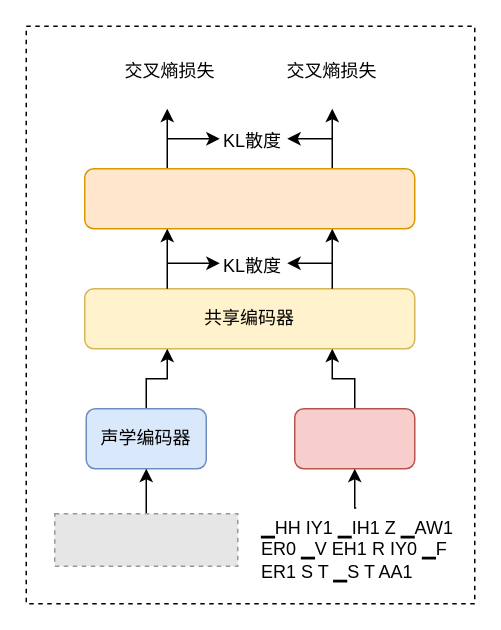
This 501x630 diagram has some shape labels left out. Grey dashed boxes stand in for pictures. The shapes that lost their labels are listed below. From the top down, each one's centre as x and y in pixels, then its label:
[249,198]: 共享解码器
[354,438]: 文本嵌入
